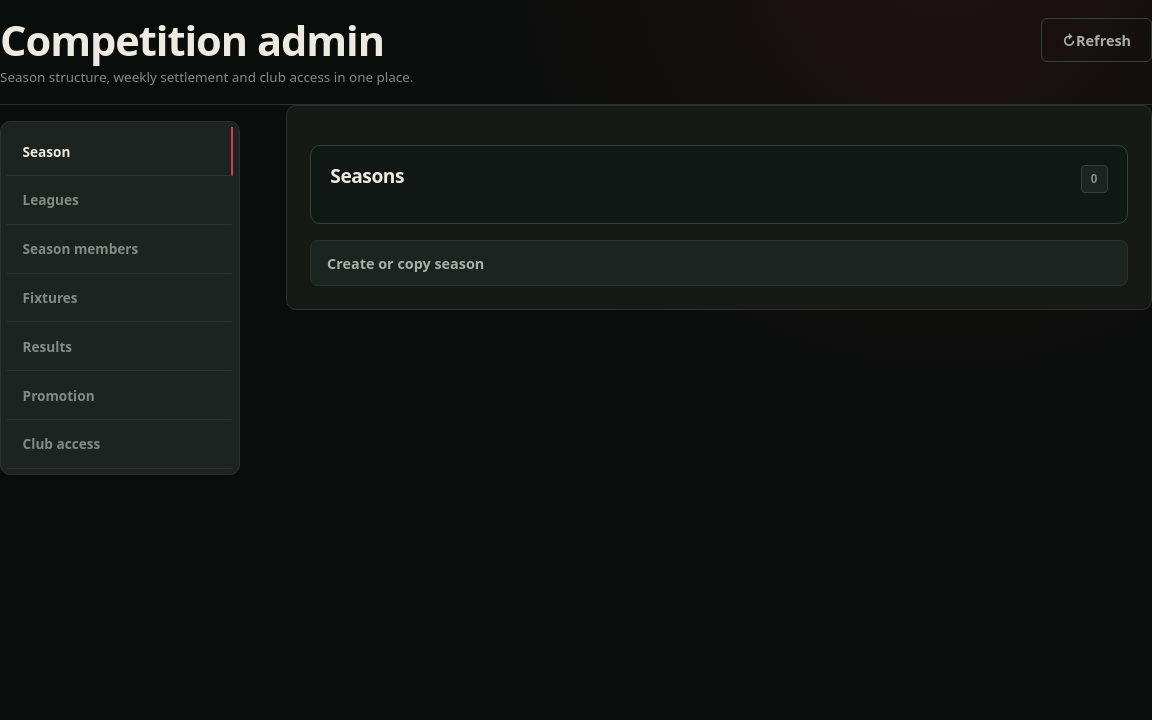
ADM-028 league overview › shows ordered league status, key configuration and active membership count without opening each league
This screenshot has width=1152, height=720.
Click the tab "Leagues".
click(120, 200)  # box top-left (7, 176), bottom-right (233, 225)
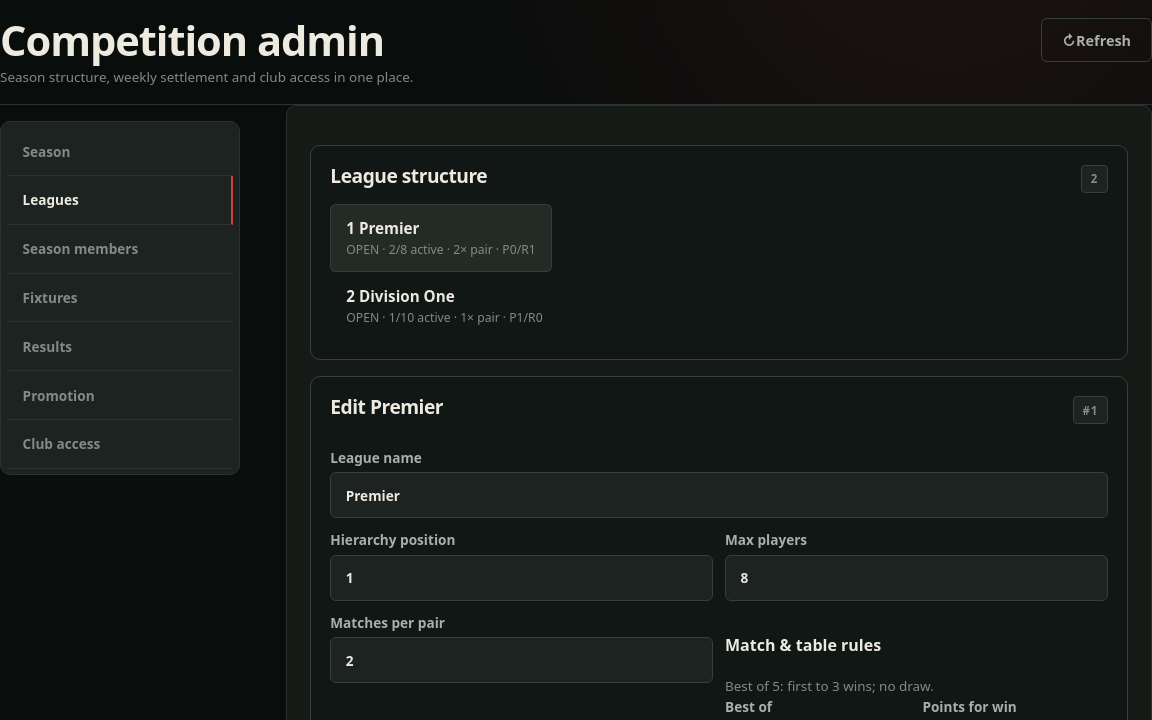
Now the button "1 Premier OPEN · 2/8 active · 2× pair · P0/R1" is shown, box top-left (330, 204), bottom-right (552, 272)
Now the button "2 Division One OPEN · 1/10 active · 1× pair · P1/R0" is shown, box top-left (330, 272), bottom-right (559, 340)
